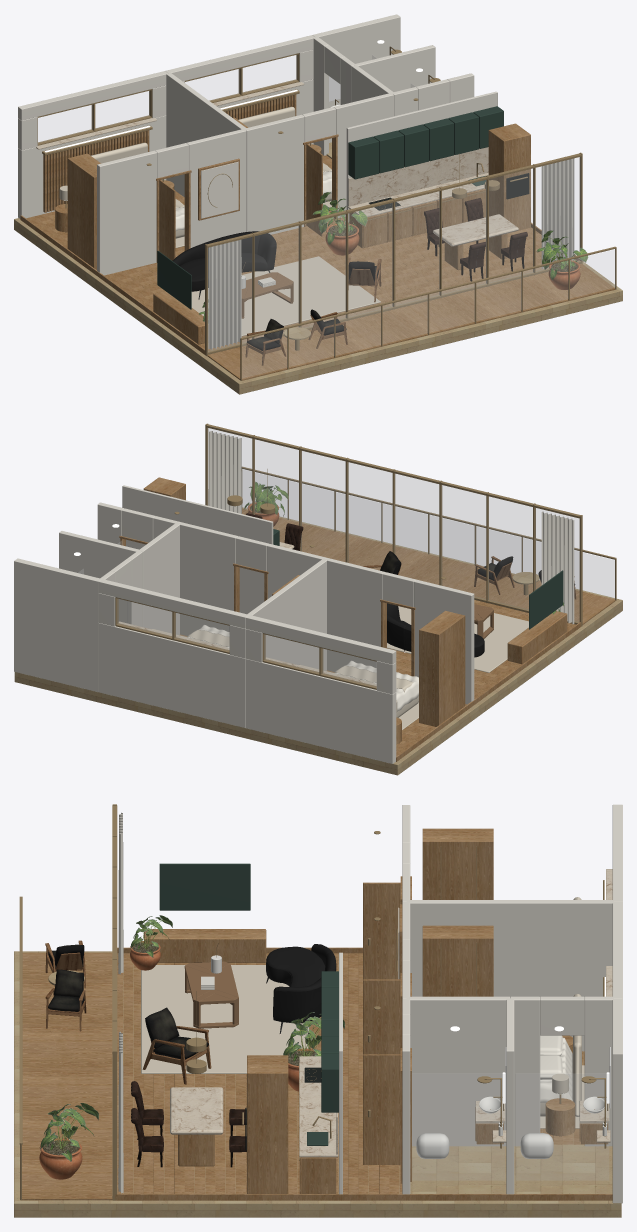
3 renders of one model, top to bottom at view 1: azimuth 30°, elevation 25°; view 2: azimuth 150°, elevation 25°; view 3: azimuth 270°, elevation 25°, orthographic. The views are drawn at different scales.
Visible parts, largest first — view 1: A0302 / material batches, potted_plant_02_leaves.001, potted_plant_02_leaves.003, potted_plant_02_pot.001; view 2: A0302 / material batches, potted_plant_02_leaves.003; view 3: A0302 / material batches, potted_plant_02_leaves.003, potted_plant_02_leaves.001, potted_plant_02_pot.003, potted_plant_02_leaves.002.
Boxes of the visible parts, box(x1,y1,x2,y2) form: A0302 / material batches: box(14, 14, 622, 394); potted_plant_02_leaves.001: box(312, 192, 367, 245); potted_plant_02_leaves.003: box(536, 230, 588, 280); potted_plant_02_pot.001: box(325, 223, 359, 255); A0302 / material batches: box(14, 423, 622, 775); potted_plant_02_leaves.003: box(244, 481, 288, 516); A0302 / material batches: box(14, 804, 622, 1217); potted_plant_02_leaves.003: box(40, 1103, 98, 1161); potted_plant_02_leaves.001: box(283, 1012, 345, 1061); potted_plant_02_pot.003: box(39, 1138, 82, 1179); potted_plant_02_leaves.002: box(130, 915, 172, 957).
Size of the model in its own units: 10.5 by 3.18 by 10.71.
Materials: 23 (9 with a texture image).
